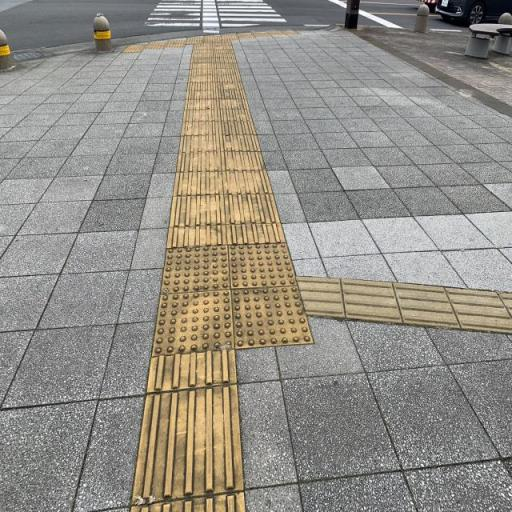dot: (151, 290, 233, 357), (230, 286, 313, 350), (161, 246, 231, 295), (229, 243, 298, 289)
line: (128, 384, 244, 502), (394, 283, 462, 331), (444, 286, 511, 334), (341, 277, 403, 324), (224, 194, 281, 226), (170, 195, 221, 228), (172, 171, 223, 196), (222, 171, 273, 195)
